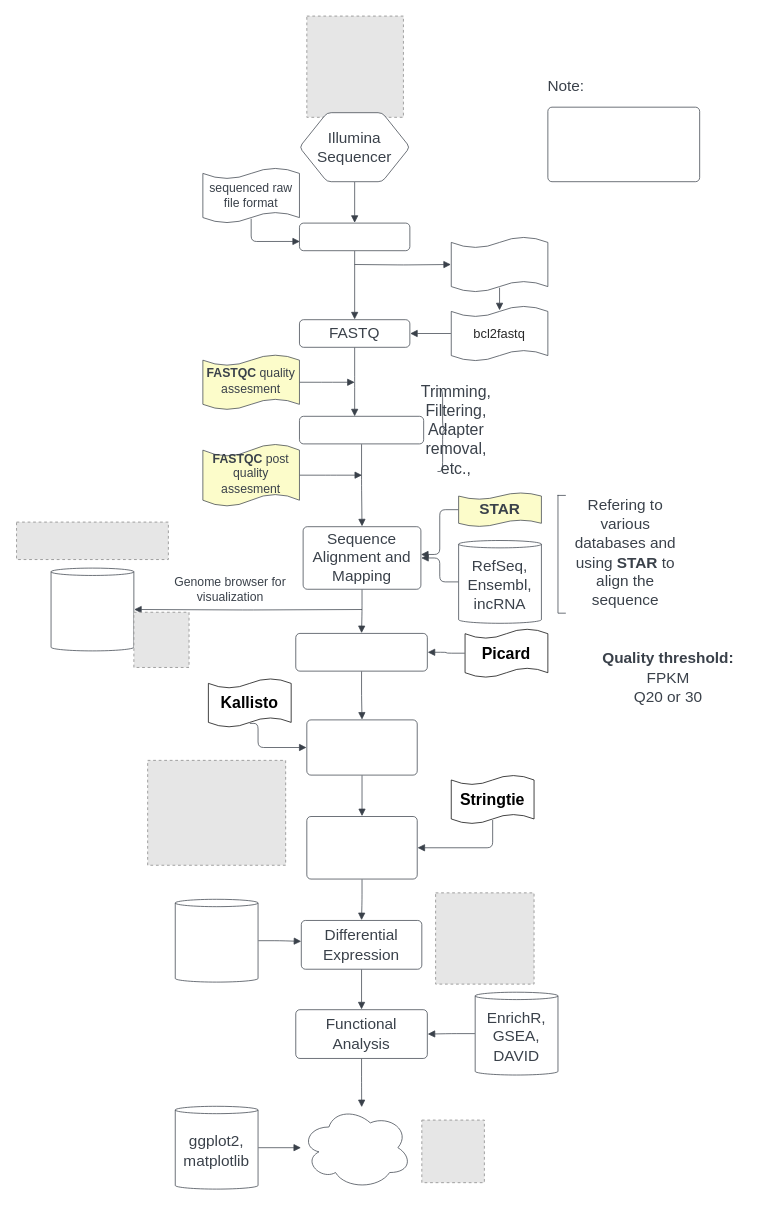
Some shapes in this 766 by 1205 pixel diagram are drawn without their labels. Grey dashed boxes stand in for pictures. The shapes that lost their labels are listed below. From the top down, each one's centre as x and y in pixels, then its label:
the point at 623,144: Install Kallisto, Picard, FastQC, StringTie, and STAR
the point at 354,236: BCL
the point at 499,264: conversion to FASTQ
the point at 361,429: Pre Processing
the point at 92,609: UCSC, Ensembl, IGV
the point at 361,652: BAM processing
the point at 361,747: Quantification of Transcript
the point at 361,847: Transcript assembly quantification
the point at 216,940: DESeq2, edgeR, limma
the point at 356,1147: Visualization
